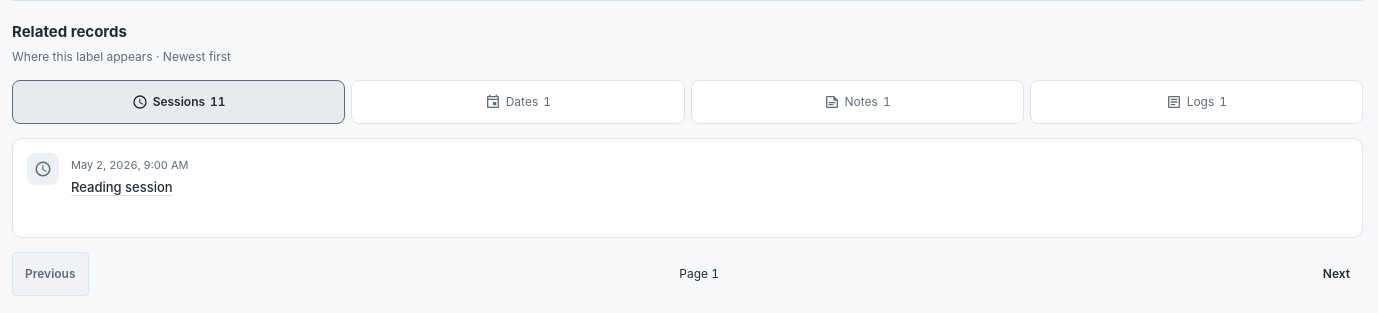
Scenario: moves between history pages without repeating or reordering records
Check: the elements with class "record-title" read "Reading session", in this order, box [71,178,188,197]
Click the button "Next" at (1336, 274), box [1310,252,1363,296]
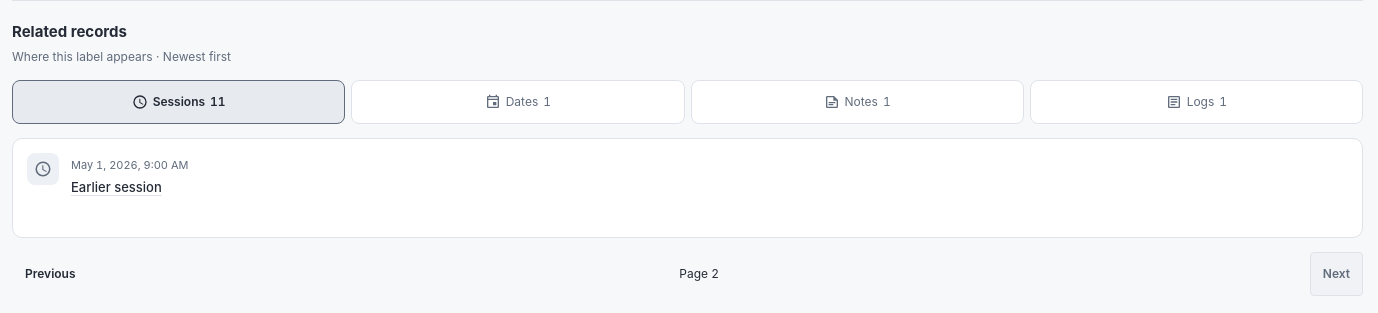
Check: the elements with class "record-title" read "Earlier session", in this order, box [71,178,162,194]
Click the button "Previous" at (50, 274), box [12,252,88,296]
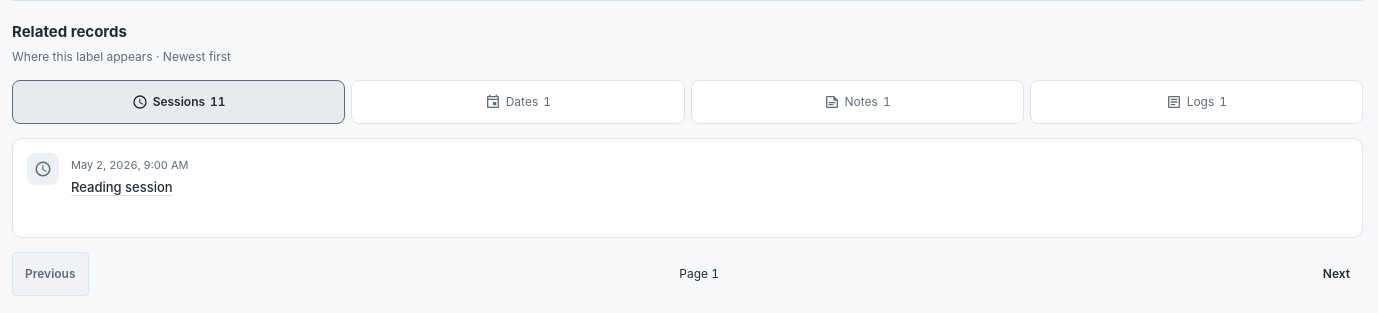
Check: the elements with class "record-title" read "Reading session", in this order, box [71,178,188,197]
